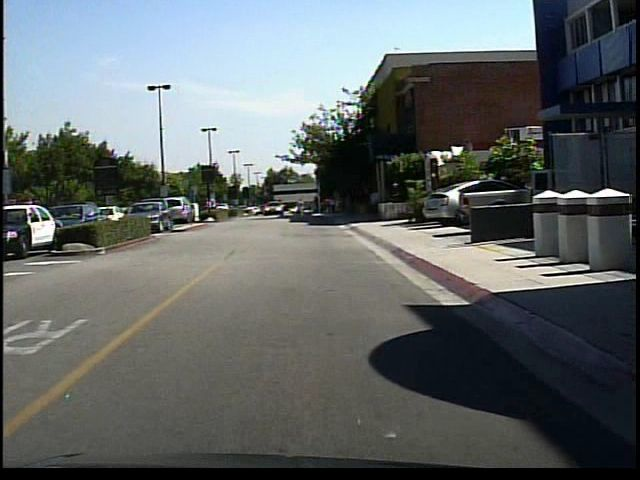person: (201, 191, 217, 218), (295, 195, 310, 221)
